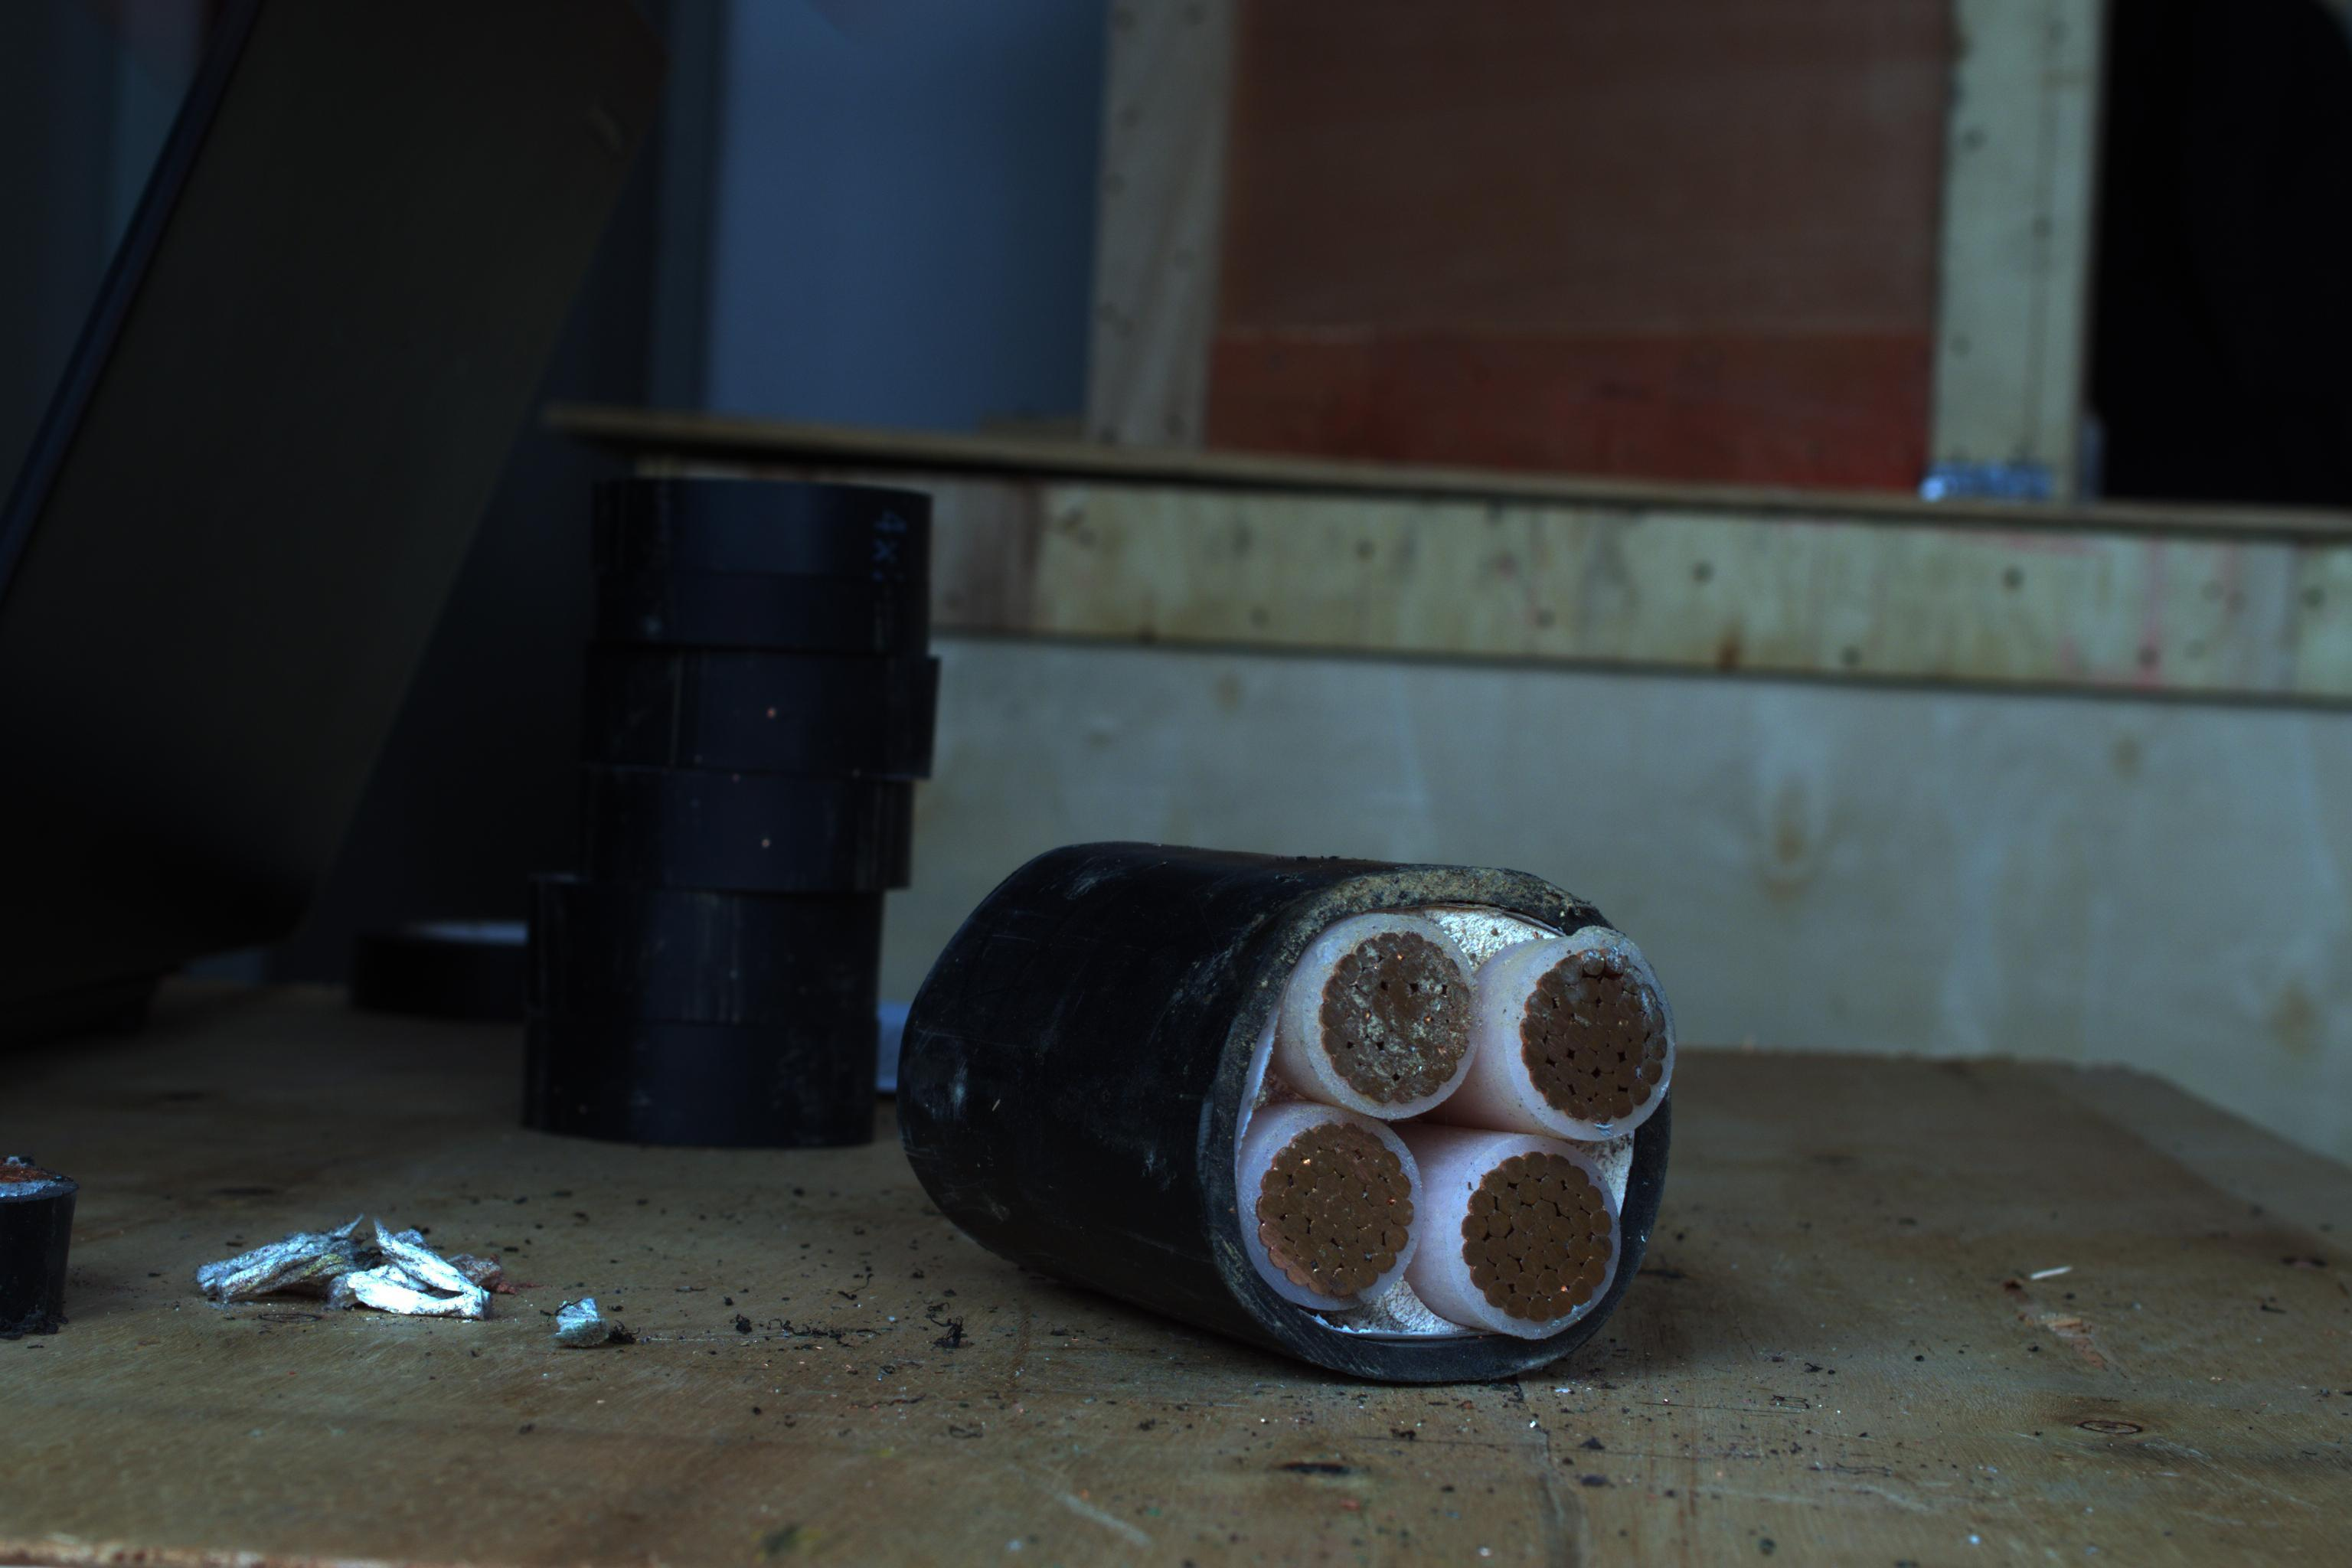YJV_0.6_1kV_4x240: (1157, 857, 1690, 1391)
